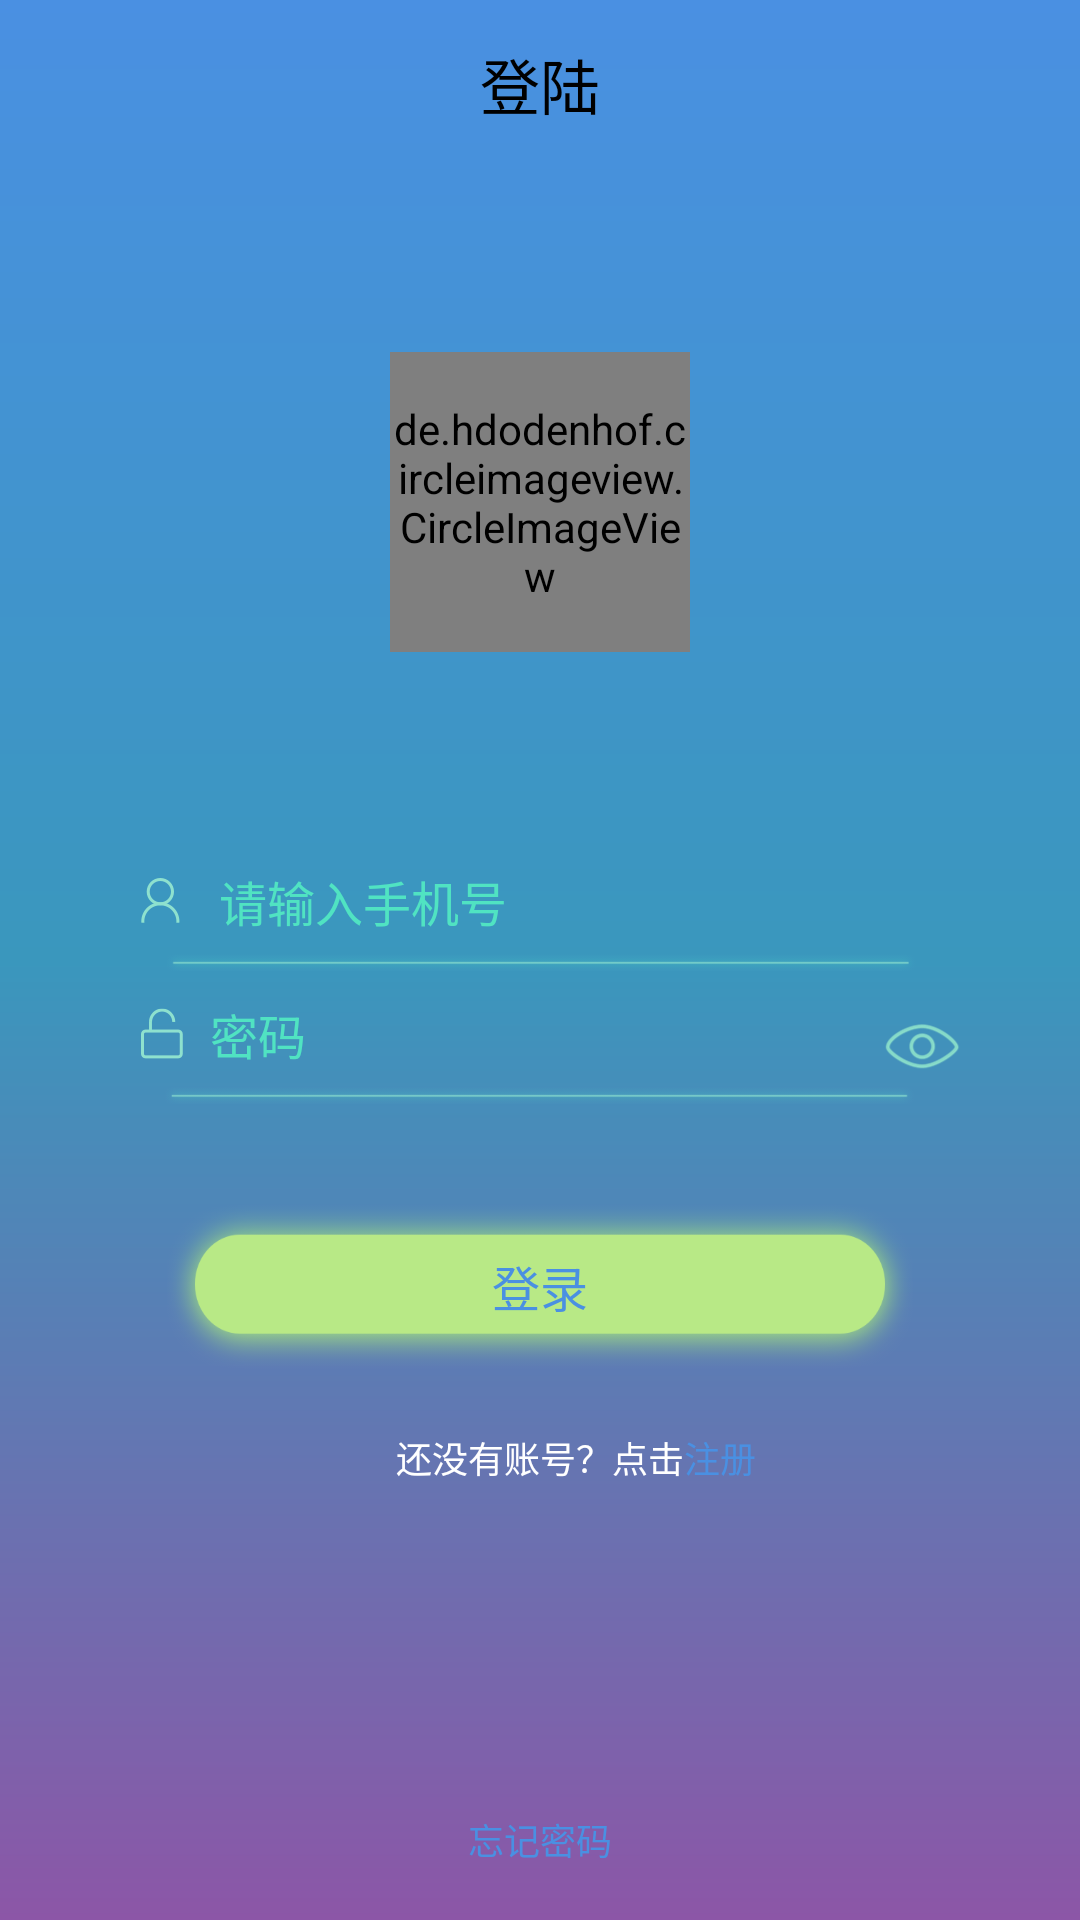

Icons on this 1080w x 1920h Android screen, each with its box as box=[x1, y1, x2, y2]:
eye: box=[886, 1024, 959, 1068]
